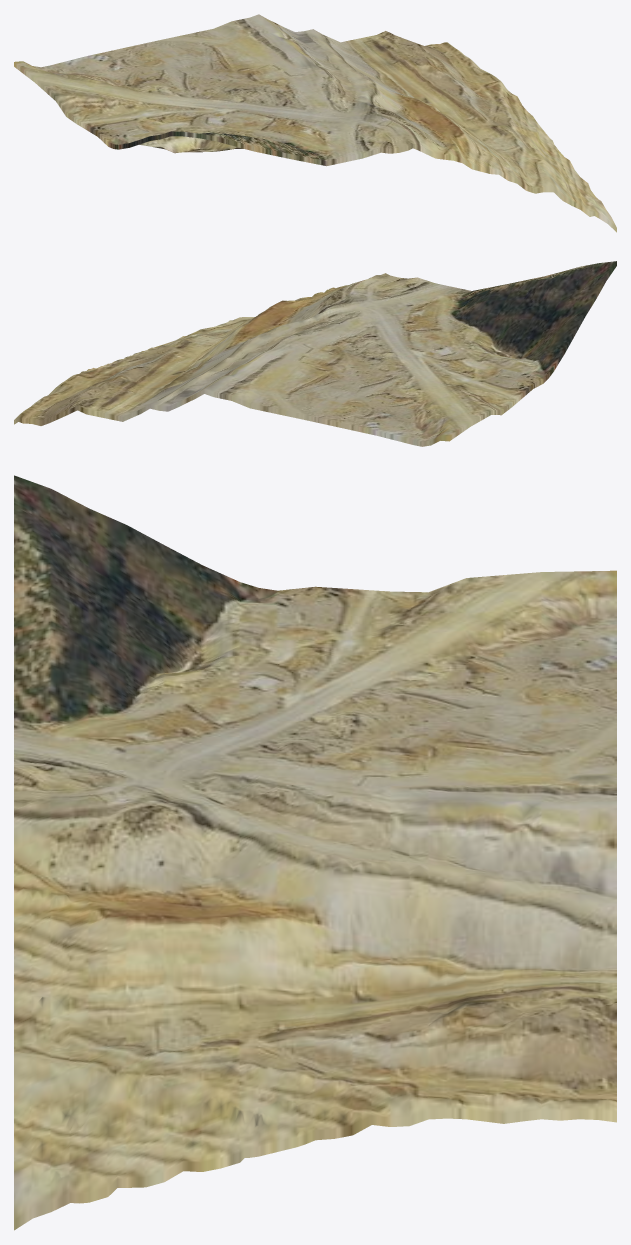
3 views of the same model, one above another, from view 1: azimuth 30°, elevation 25°; view 2: azimuth 150°, elevation 25°; view 3: azimuth 270°, elevation 25° (orthographic). The views are drawn at different scales.
Visible parts, largest first — view 1: l1-0-3; view 2: l1-0-3; view 3: l1-0-3.
Part boxes in pixels (box(x1,y1,x2,y2)): l1-0-3: box(14, 14, 616, 232); l1-0-3: box(14, 261, 616, 446); l1-0-3: box(14, 475, 616, 1230).
Bounding box in the file's own units: 768 × 350 × 512.
1 material, 1 textured.
